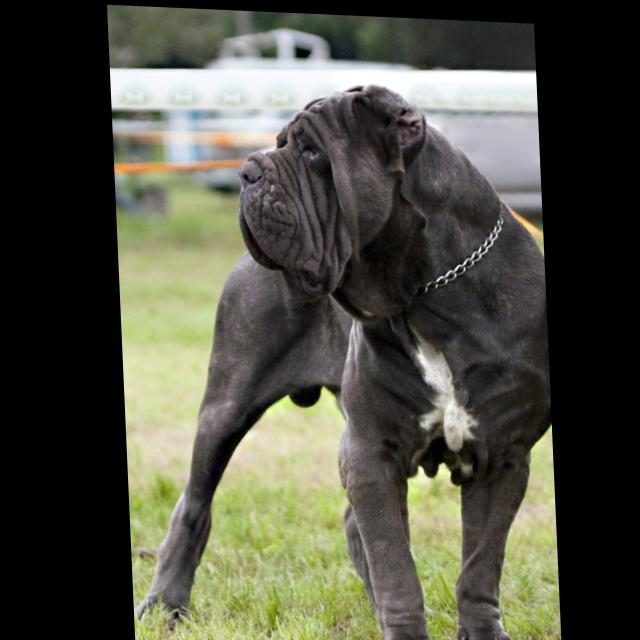mastino_napoletano: (115, 71, 556, 640)
